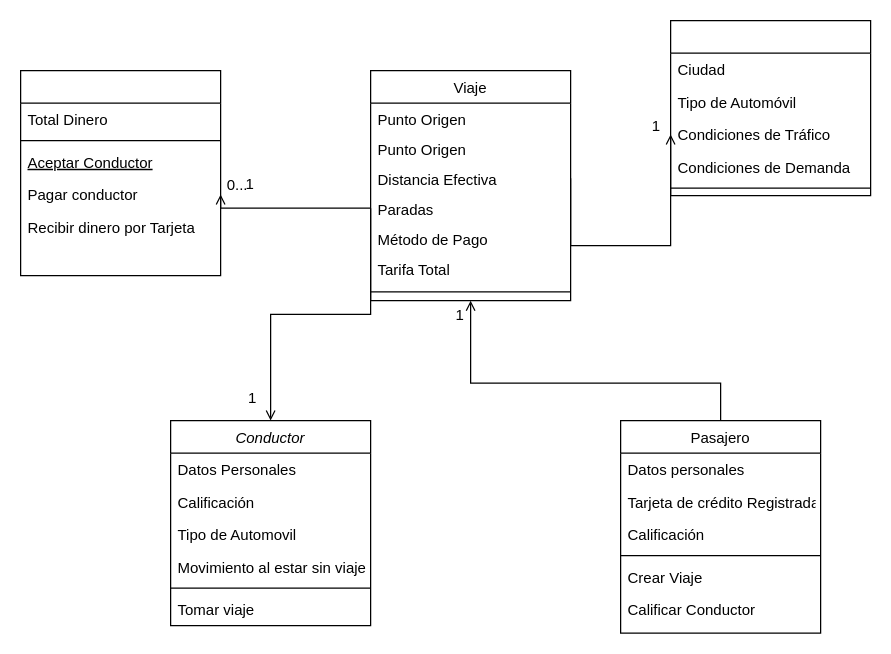
Image size: 891x654. Some labels were removed from this diagram. Here are the shapes that lost their labels. From the top down, the box of each, then its label:
(669, 19, 871, 196): Tarifa por Km
(19, 69, 221, 276): Usuario Admin
